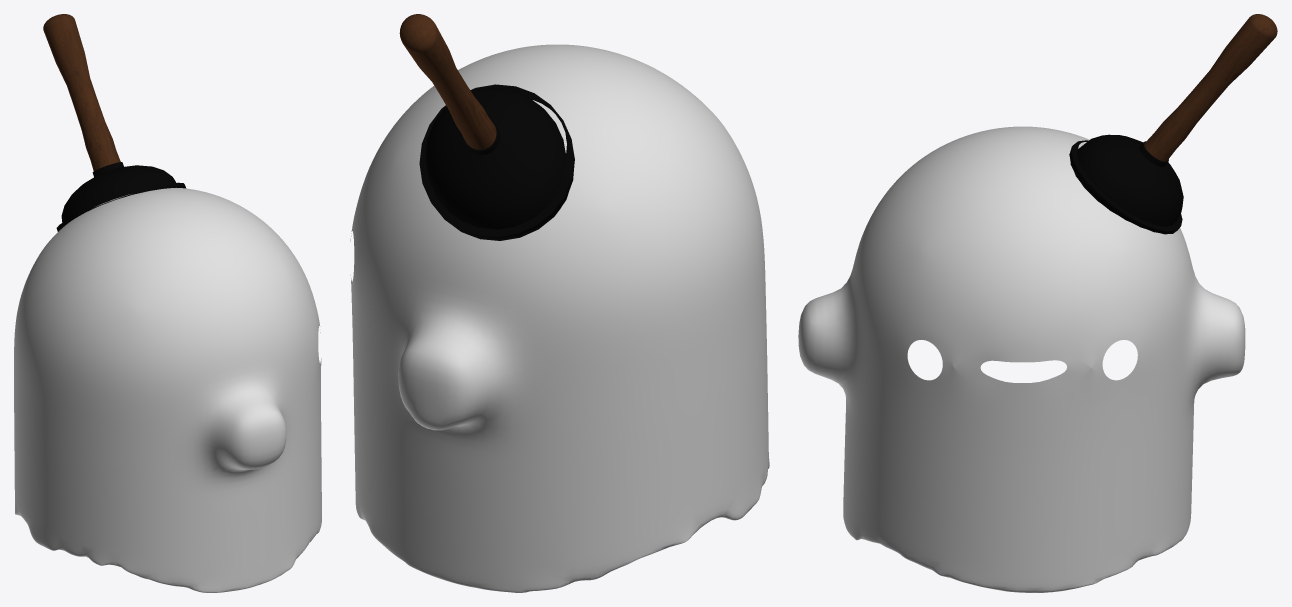
The model's file is ghostbodytoilet.glb.
3 views of the same model, side by side, from view 1: azimuth 30°, elevation 25°; view 2: azimuth 150°, elevation 25°; view 3: azimuth 270°, elevation 25° (orthographic). The views are drawn at different scales.
Visible parts, largest first — view 1: Cube, Handle_1, Plunger_0; view 2: Cube, Plunger_0, Handle_1; view 3: Cube, Plunger_0, Handle_1.
Part boxes in pixels (bbox=[...]): Cube: bbox=[14, 188, 321, 592]; Handle_1: bbox=[43, 14, 120, 171]; Plunger_0: bbox=[56, 162, 186, 231]; Cube: bbox=[350, 44, 769, 592]; Plunger_0: bbox=[419, 84, 574, 240]; Handle_1: bbox=[399, 14, 496, 149]; Cube: bbox=[798, 126, 1245, 592]; Plunger_0: bbox=[1069, 134, 1183, 234]; Handle_1: bbox=[1144, 14, 1277, 161].
Size of the model in its own units: 1.71 by 2.73 by 2.34.
2 materials, 2 textured.
